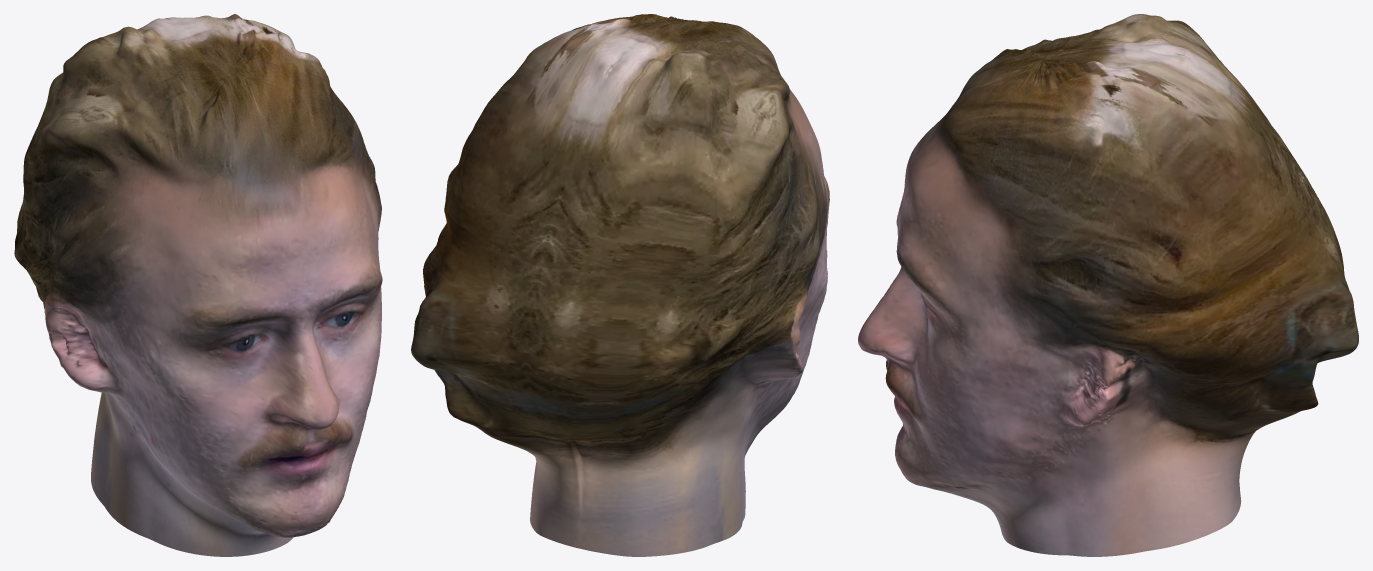
File: aegir-transformed.glb
The picture shows the model from 3 angles, left to right: view 1: azimuth 30°, elevation 25°; view 2: azimuth 150°, elevation 25°; view 3: azimuth 270°, elevation 25°; orthographic projection. The views are drawn at different scales.
Parts seen in each view (by area): view 1: head3d; view 2: head3d; view 3: head3d.
Part boxes in pixels (left/top/right/bottom): head3d: left=14, top=14, right=382, bottom=556; head3d: left=411, top=14, right=829, bottom=556; head3d: left=858, top=14, right=1358, bottom=556.
Size of the model in its own units: 19.85 by 28.55 by 26.72.
1 material, 1 textured.
